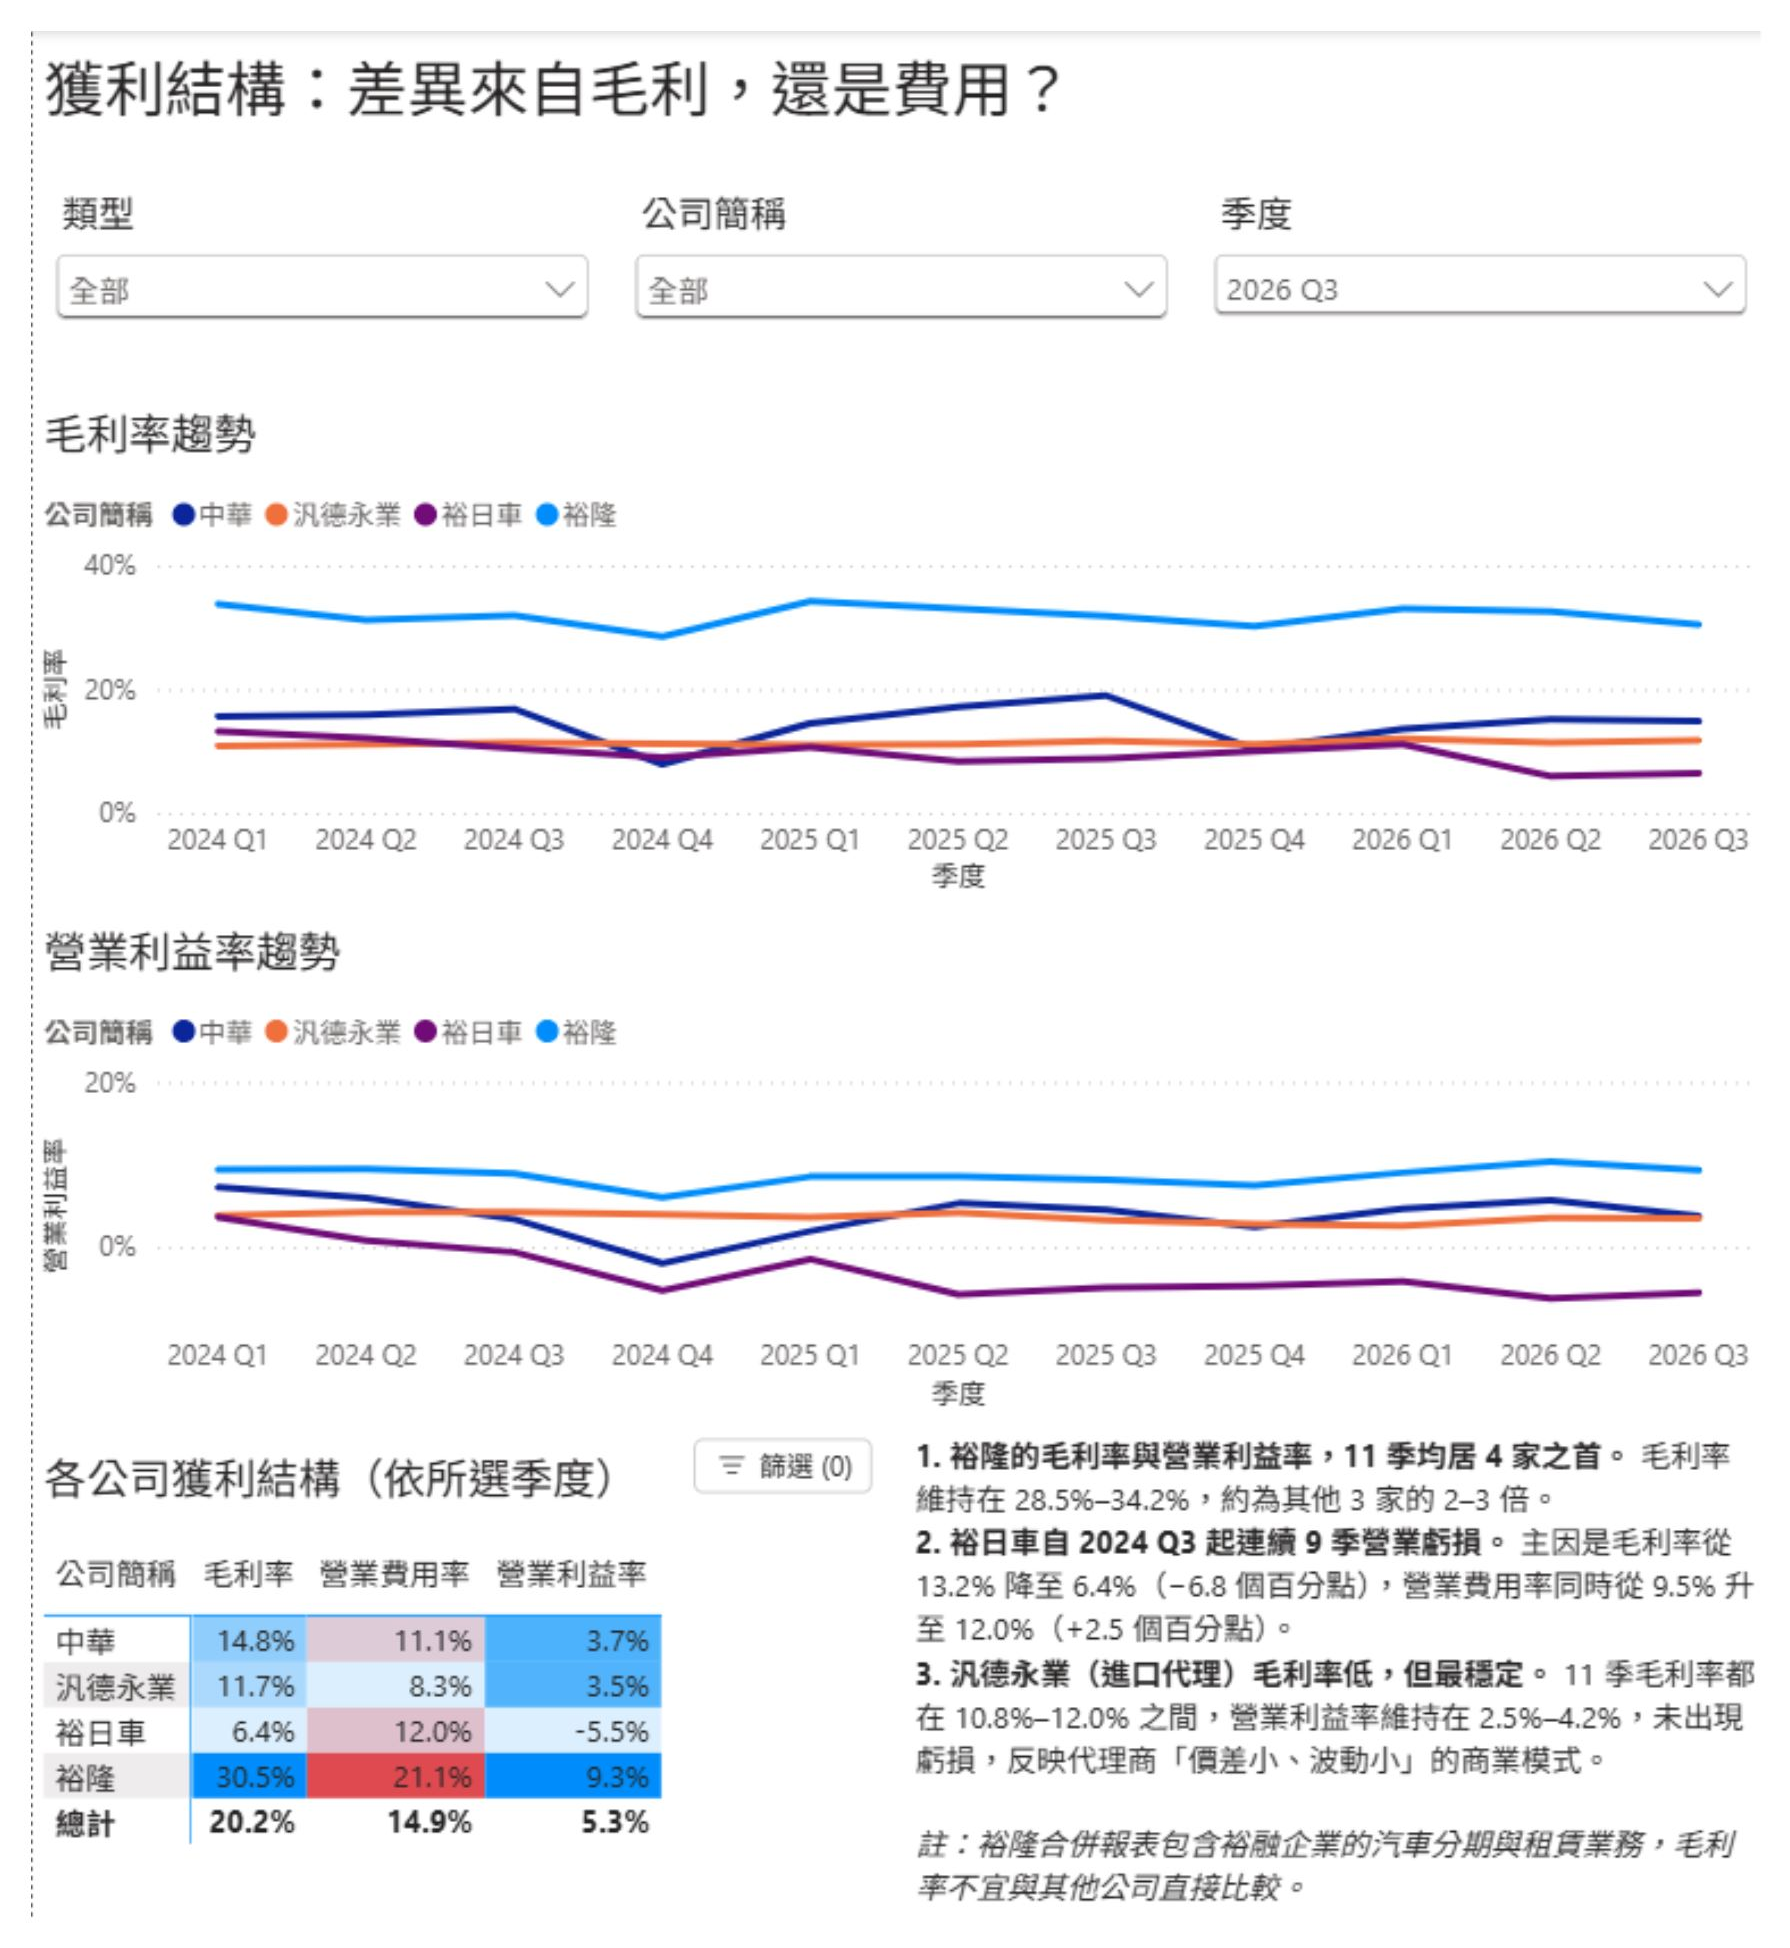

This screenshot's page, from the dashboard's own definition file:
{"tool":"powerbi","page":{"name":"獲利結構","canvas":[1920,1080],"ordinal":1},"visuals":[{"type":"slicer","fields":{"Values":["公司.類型"]},"box":[0,63.4,255,92.5],"z":0},{"type":"slicer","fields":{"Values":["公司.公司簡稱"]},"box":[255,63.4,255,92.5],"z":1000},{"type":"slicer","fields":{"Values":["日期表.季度"]},"box":[510,63.4,255,92.5],"z":2000},{"type":"lineChart","title":"毛利率趨勢","fields":{"Category":["日期表.季度"],"Series":["公司.公司簡稱"],"Y":["財報.毛利率"]},"box":[0,163.4,765,221],"z":3000},{"type":"lineChart","title":"營業利益率趨勢","fields":{"Category":["日期表.季度"],"Series":["公司.公司簡稱"],"Y":["財報.營業利益率"]},"box":[0,391.4,765,221],"z":4000},{"type":"pivotTable","title":"各公司獲利結構（依所選季度）","fields":{"Rows":["公司.公司簡稱"],"Values":["財報.毛利率","財報.營業費用率","財報.營業利益率"]},"box":[0,612.4,383,215],"z":5000},{"type":"textbox","box":[383.3,612.2,382.2,223.3],"z":6000},{"type":"textbox","box":[0,0,765,63.8],"z":7000}]}

Visuals, with their boxes on the page's 1920x1080 design canvas (x1, y1, x2, y2). These are canvas units, not pixel positions in the 1790x1948 screenshot, which may show the page scaled, cropped or inside an application window:
slicer - 公司.類型: bbox=[0, 63, 255, 156]
slicer - 公司.公司簡稱: bbox=[255, 63, 510, 156]
slicer - 日期表.季度: bbox=[510, 63, 765, 156]
"毛利率趨勢" lineChart: bbox=[0, 163, 765, 384]
"營業利益率趨勢" lineChart: bbox=[0, 391, 765, 612]
"各公司獲利結構（依所選季度）" pivotTable: bbox=[0, 612, 383, 827]
textbox: bbox=[383, 612, 766, 836]
textbox: bbox=[0, 0, 765, 64]
